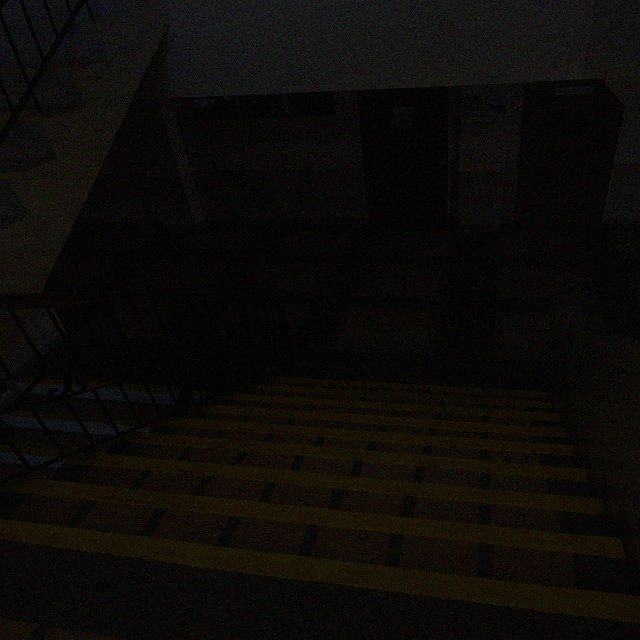stair: (0, 376, 639, 622), (0, 0, 168, 292), (0, 0, 129, 228)
